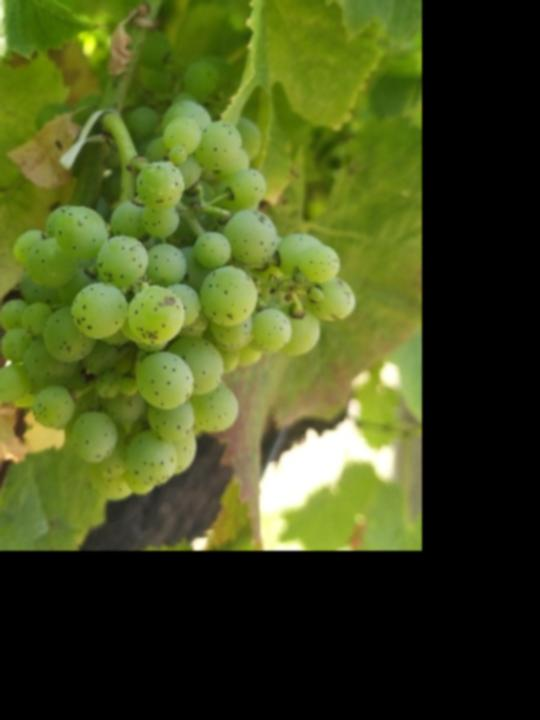grape: (0, 96, 357, 502)
